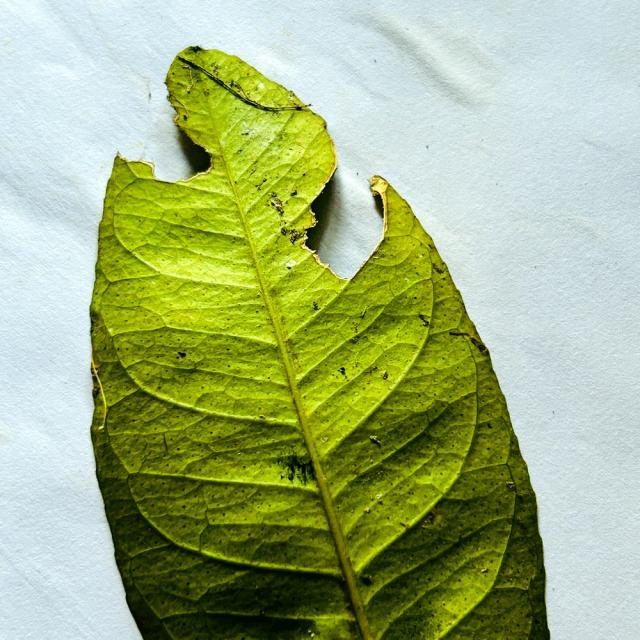Deficiency Leaf: (305, 164, 383, 279), (173, 126, 218, 178)
Lemon: (90, 48, 545, 639)
